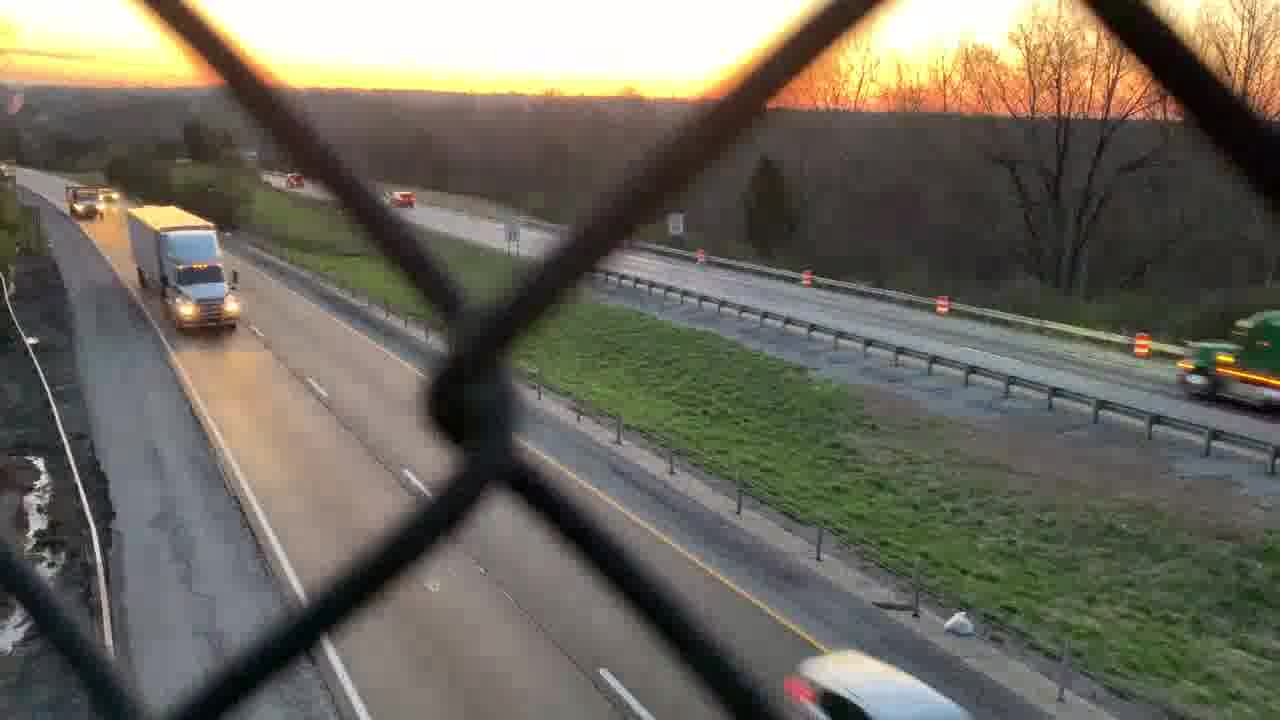heavyTruck: (116, 202, 235, 333), (1178, 282, 1280, 419)
smallCar: (790, 631, 985, 720)
vehicle: (57, 182, 102, 221), (276, 172, 306, 193), (384, 187, 416, 206), (102, 182, 121, 199)
